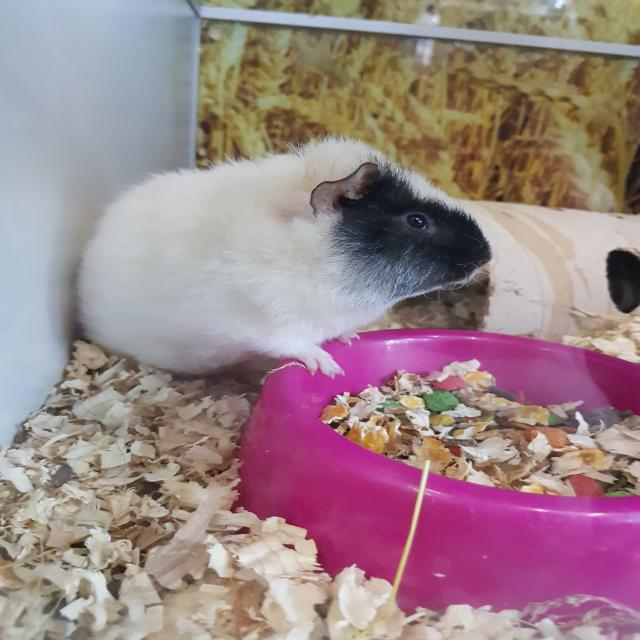guinea pig: (71, 136, 496, 380)
